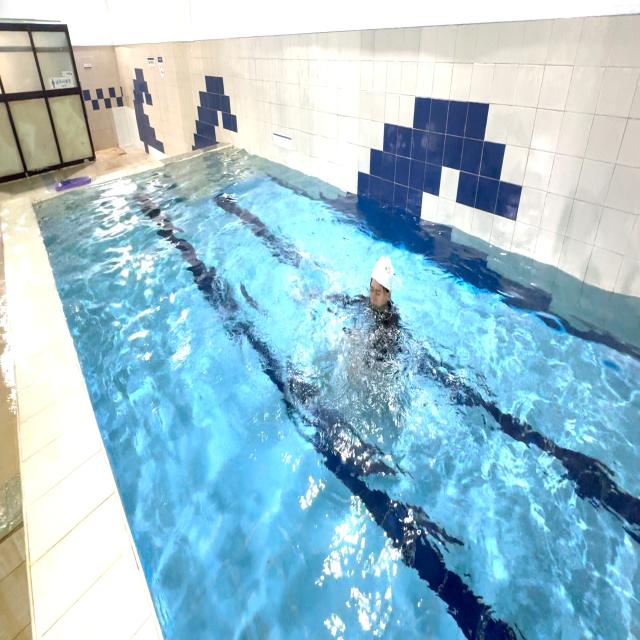Drowning: (306, 237, 428, 428)
